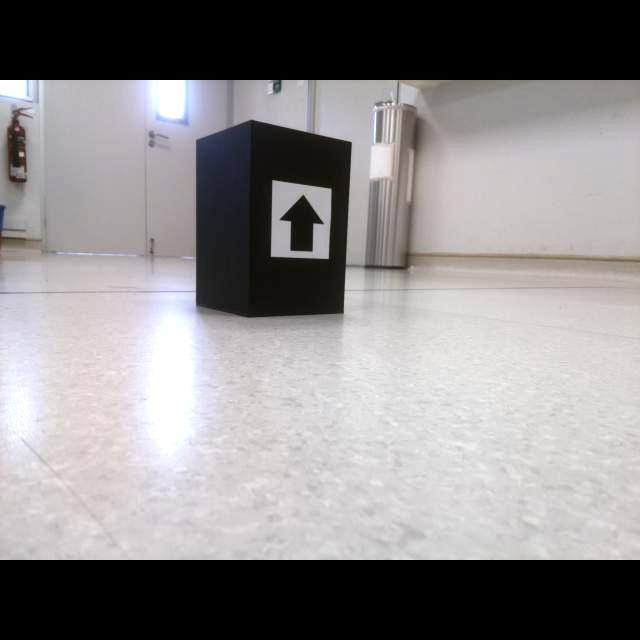UP: (277, 193, 325, 253)
